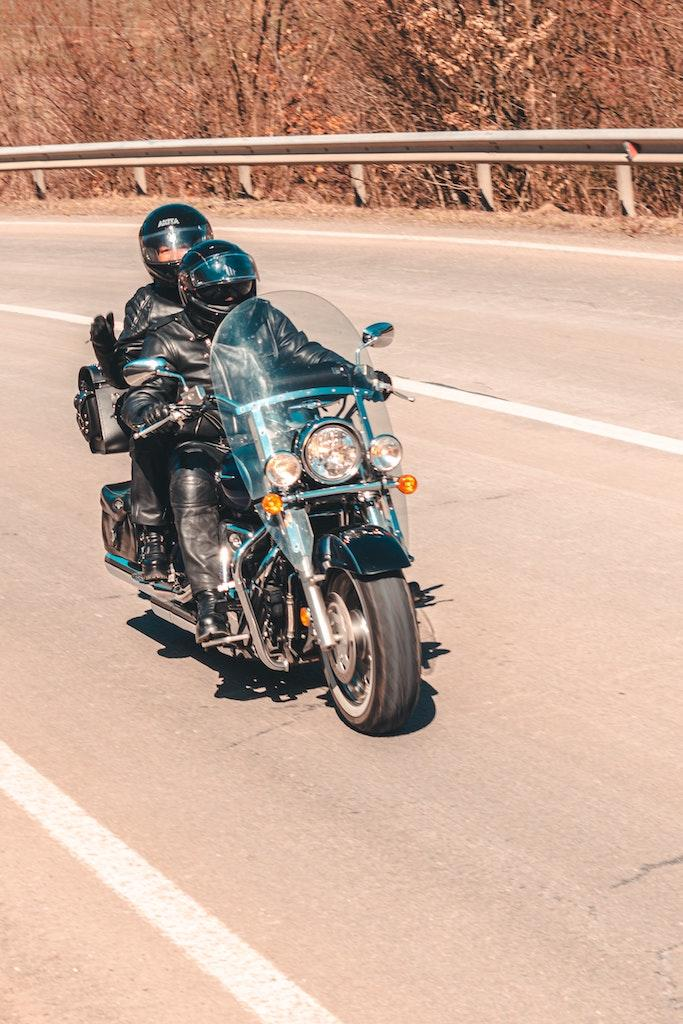helmet: (177, 238, 262, 345), (139, 202, 217, 291)
